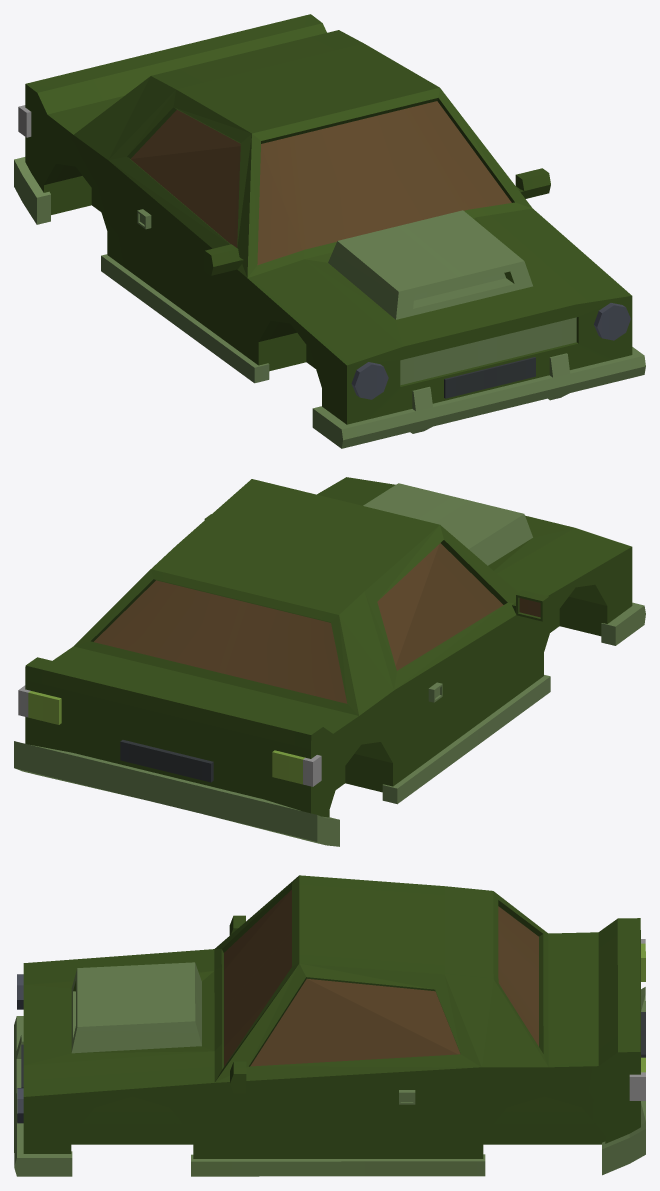
File: Car_23.fbx
3 views of the same model, one above another, from view 1: azimuth 30°, elevation 25°; view 2: azimuth 150°, elevation 25°; view 3: azimuth 270°, elevation 25° (orthographic). The views are drawn at different scales.
Visible parts, largest first — view 1: Car_23; view 2: Car_23; view 3: Car_23.
Boxes of the visible parts, x1=… form: Car_23: x1=14, y1=14, x2=645, y2=448; Car_23: x1=14, y1=477, x2=645, y2=846; Car_23: x1=14, y1=875, x2=645, y2=1176.
Bounding box in the file's own units: 1.9 × 1.09 × 3.2.
